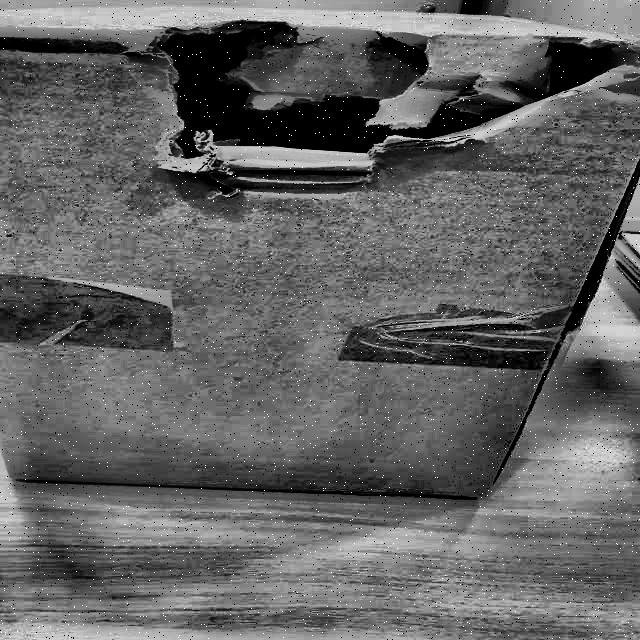box: (1, 7, 640, 505)
hole: (149, 20, 638, 208)
